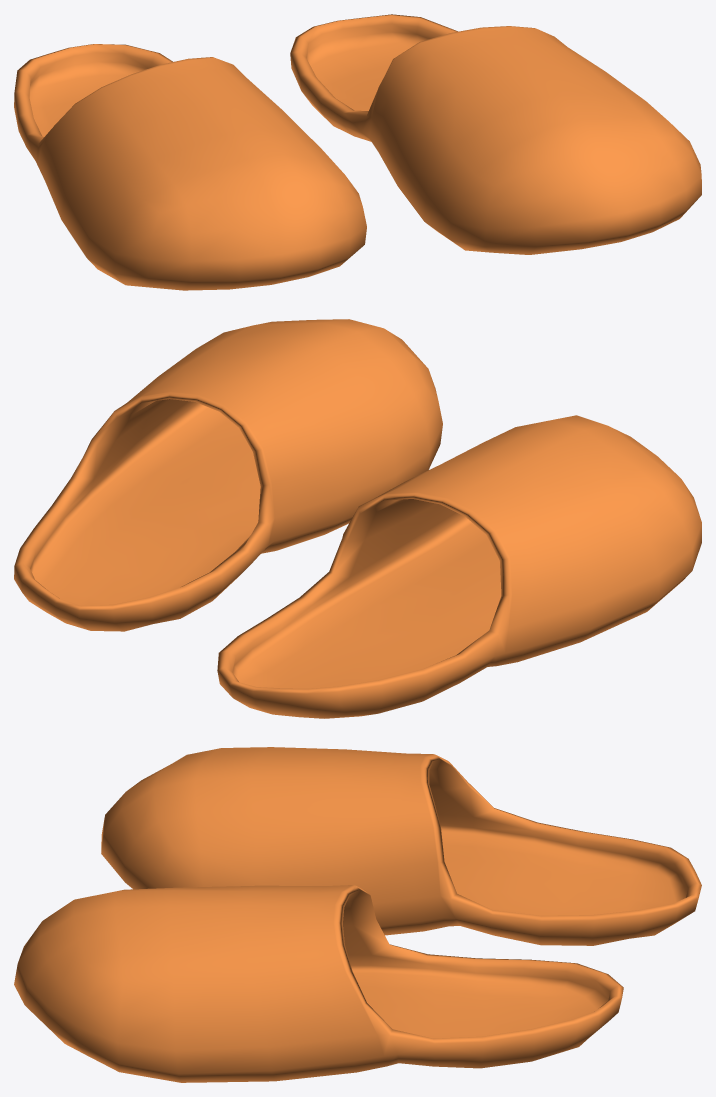
The model's file is Shoes_1.glb.
3 renders of one model, top to bottom at view 1: azimuth 30°, elevation 25°; view 2: azimuth 150°, elevation 25°; view 3: azimuth 270°, elevation 25°, orthographic. The views are drawn at different scales.
Parts seen in each view (by area): view 1: Shoes_1; view 2: Shoes_1; view 3: Shoes_1.
Boxes of the visible parts, box(x1,y1,x2,y2) form: Shoes_1: box(14, 14, 701, 290); Shoes_1: box(14, 319, 701, 718); Shoes_1: box(14, 747, 701, 1082).
Size of the model in its own units: 0.3532 by 0.0853 by 0.3867.
Materials: 1 (1 with a texture image).
